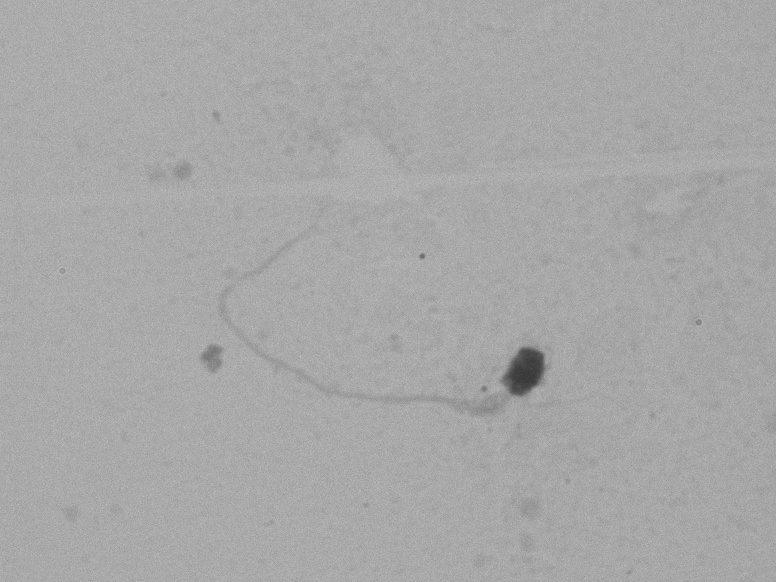Abnormal: (196, 185, 585, 461)
